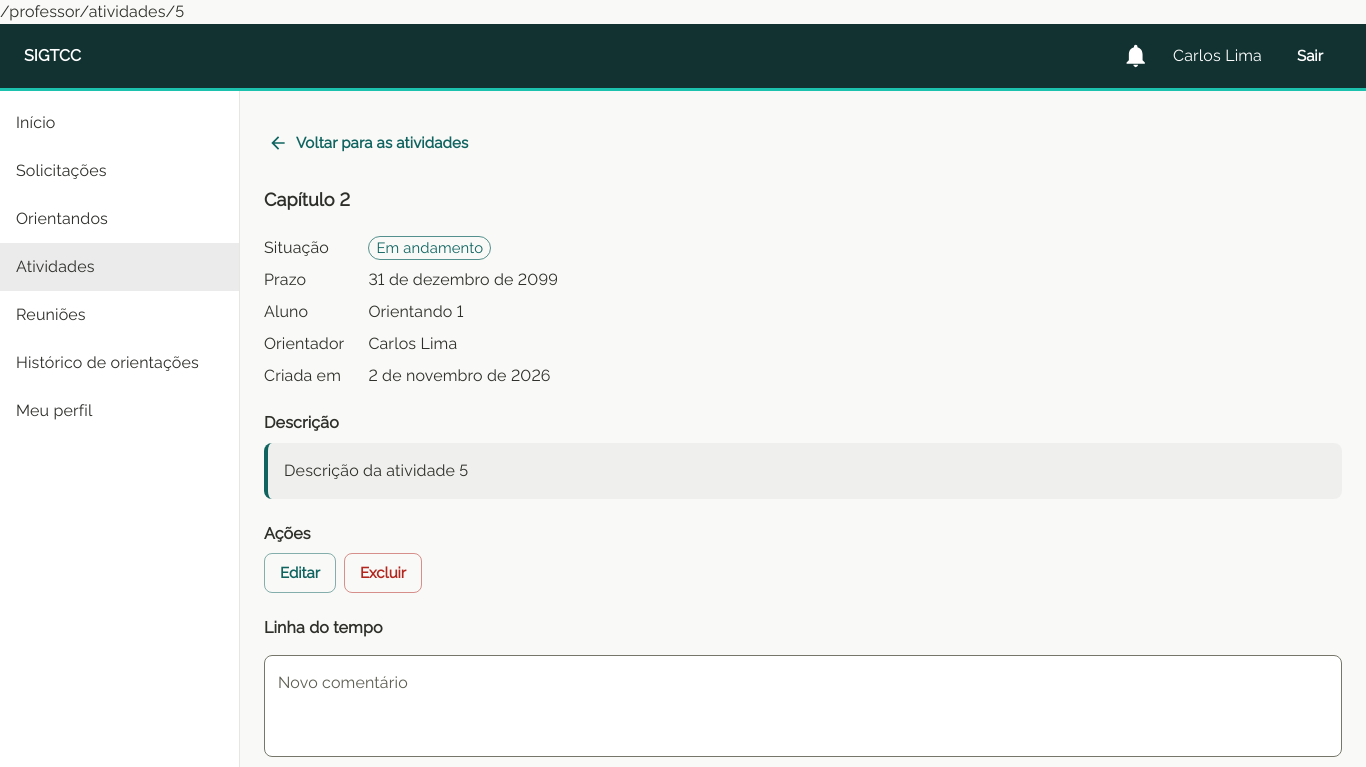
Scenario: Excluir atividade: a confirmação (RNF21) › Cancelar fecha a confirmação sem excluir
Click the button "Excluir" at [383, 573], box [344,553,422,593]
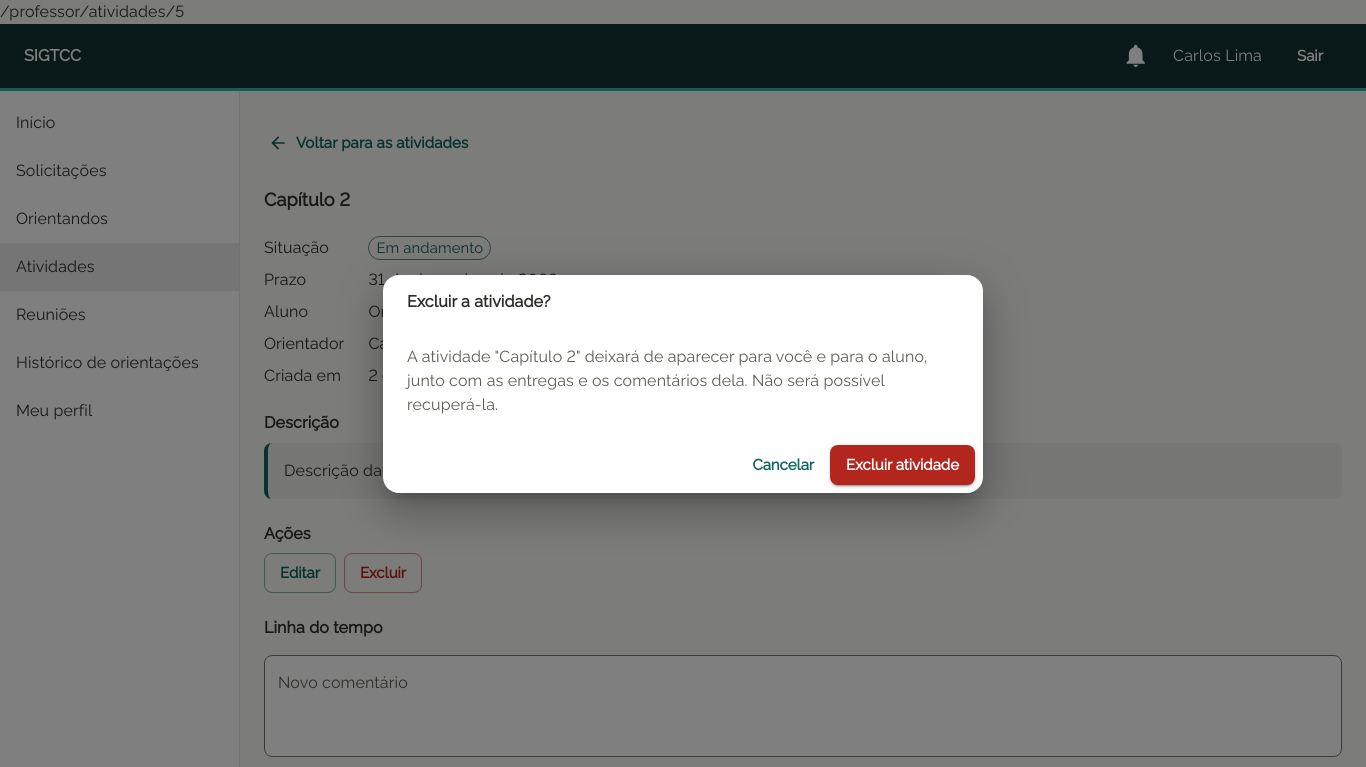
Click the button "Cancelar" at [783, 465], box [744,445,822,485]
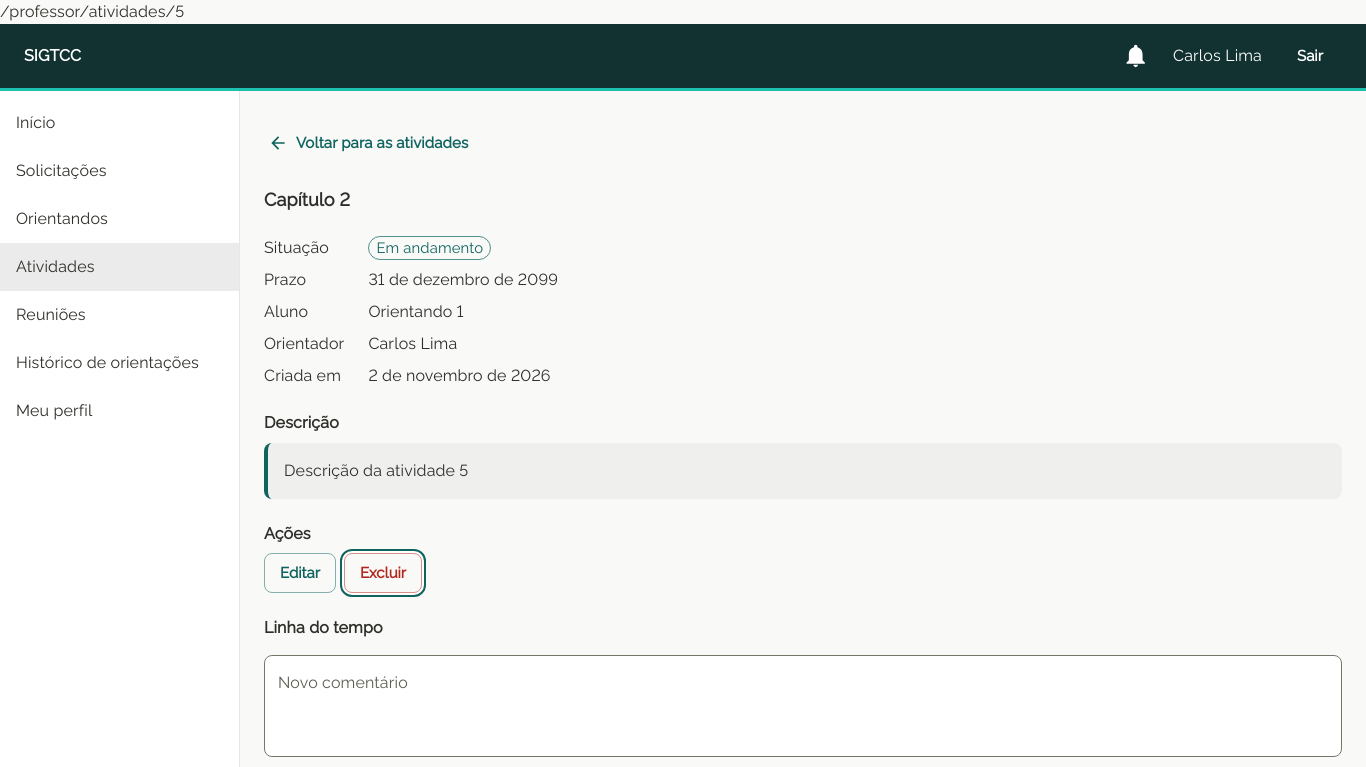
Expected: the heading "Capítulo 2" is shown, [264,189,350,210]
Result: the heading "Excluir a atividade?" is gone
